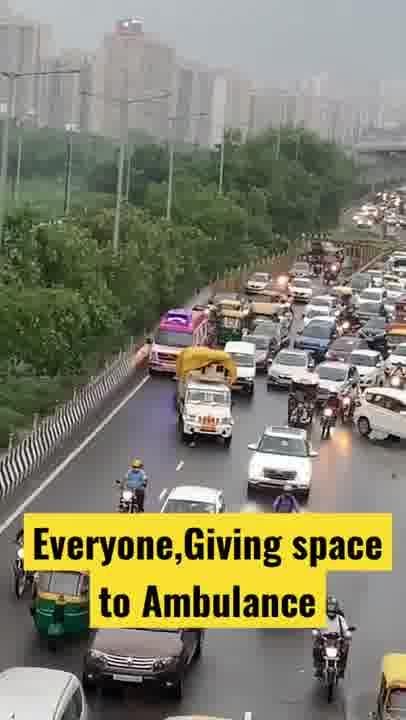AMBULANCE: (147, 306, 213, 374)
